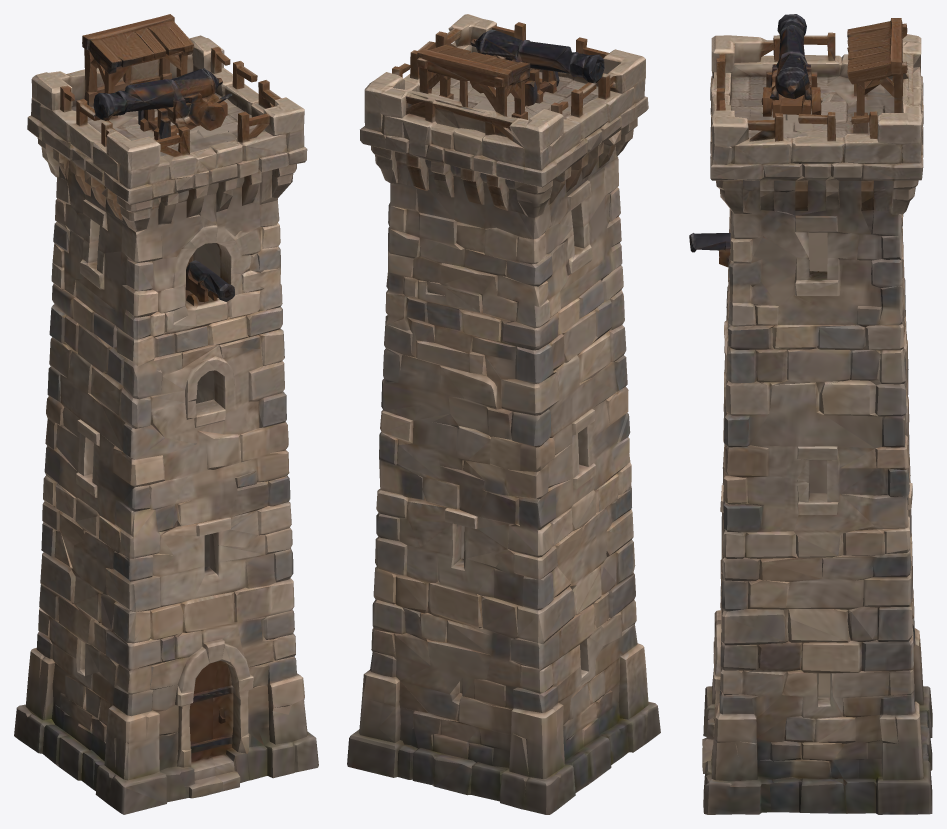
Rendered from tower.glb.
The picture shows the model from 3 angles, left to right: view 1: azimuth 30°, elevation 25°; view 2: azimuth 150°, elevation 25°; view 3: azimuth 270°, elevation 25°; orthographic projection. The views are drawn at different scales.
Size of the model in its own units: 0.5667 by 1.9 by 0.5787.
1 material, 1 textured.
